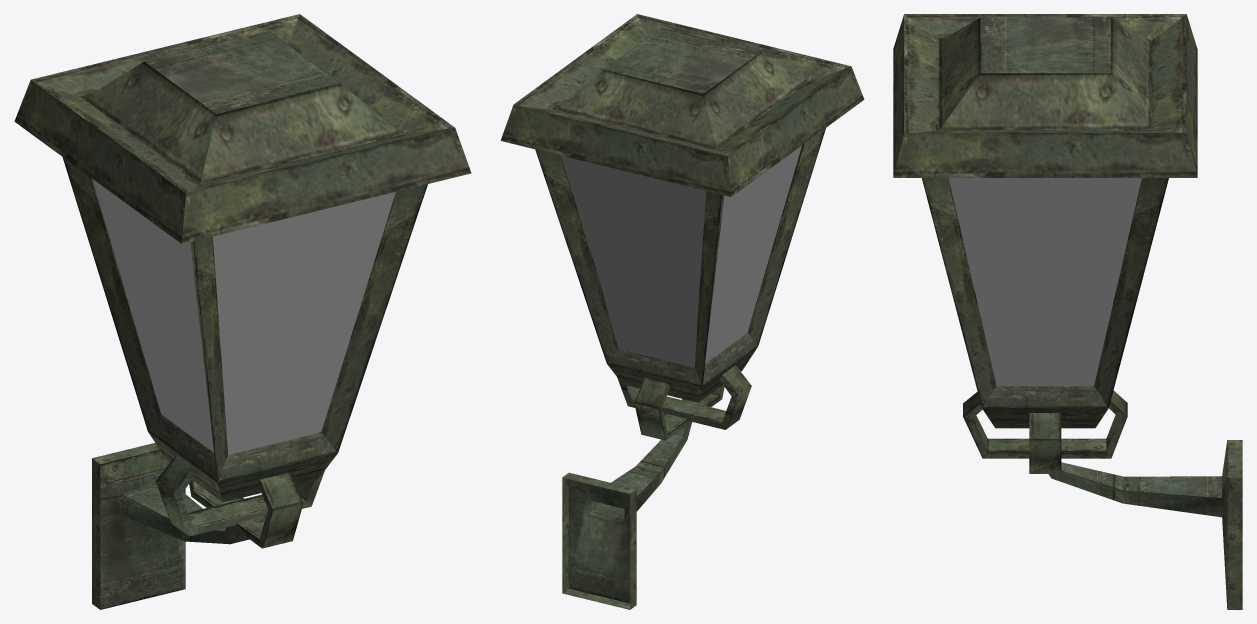
The model's file is Model_Streetlight_02_Small.fbx.
The picture shows the model from 3 angles, left to right: view 1: azimuth 30°, elevation 25°; view 2: azimuth 150°, elevation 25°; view 3: azimuth 270°, elevation 25°; orthographic projection. The views are drawn at different scales.
Parts seen in each view (by area): view 1: StreetLight_02_Small; view 2: StreetLight_02_Small; view 3: StreetLight_02_Small.
Part boxes in pixels (x1,y1,x2,y2): StreetLight_02_Small: (14, 14, 471, 609); StreetLight_02_Small: (500, 14, 864, 609); StreetLight_02_Small: (893, 14, 1242, 609).
Size of the model in its own units: 38.34 by 75.83 by 44.03.
